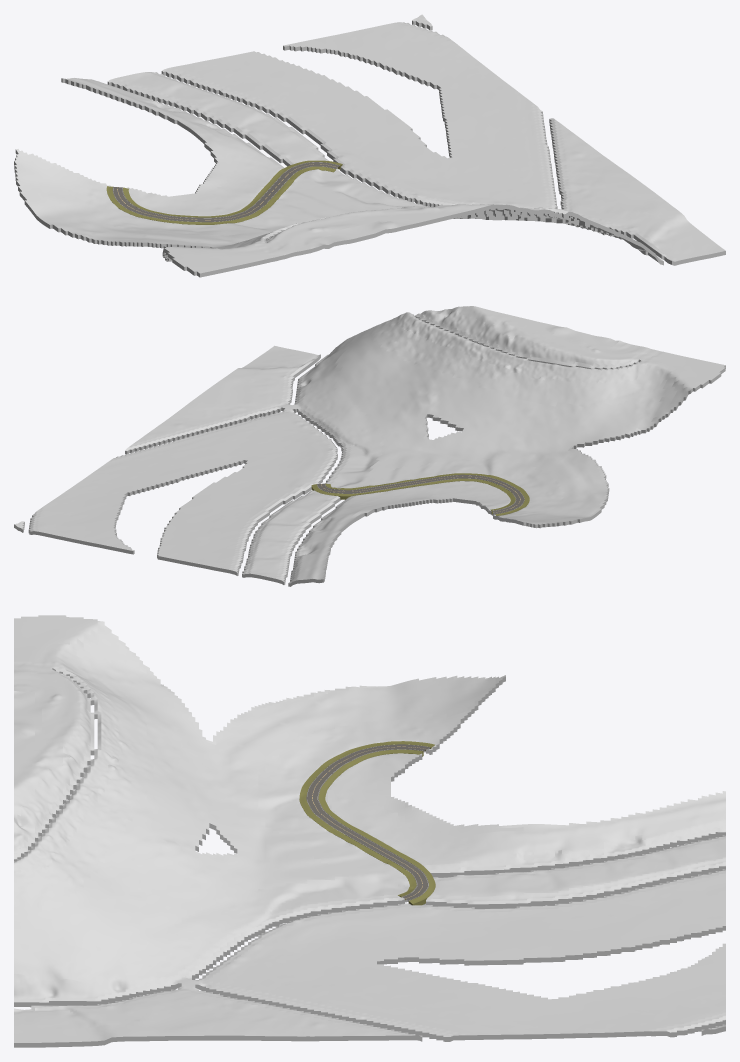
Rendered from conz_88.glb.
3 views of the same model, one above another, from view 1: azimuth 30°, elevation 25°; view 2: azimuth 150°, elevation 25°; view 3: azimuth 270°, elevation 25° (orthographic). The views are drawn at different scales.
Parts seen in each view (by area): view 1: terrain88, road88, verge88R, verge88L; view 2: terrain88, road88, verge88L, verge88R; view 3: terrain88, road88, verge88R, verge88L.
Part boxes in pixels (x1,y1,x2,y2): terrain88: (14,14,725,277); road88: (112,162,339,222); verge88R: (106,166,335,224); verge88L: (123,160,342,217); terrain88: (14,306,725,586); road88: (317,474,524,514); verge88L: (311,478,515,514); verge88R: (325,473,529,515); terrain88: (14,615,725,1047); road88: (306,744,429,900); verge88R: (299,741,434,900); verge88L: (318,749,435,905).
Bounding box in the file's own units: 412 × 81.4 × 408.
